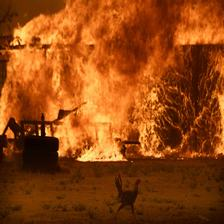fire: (11, 16, 221, 162)
